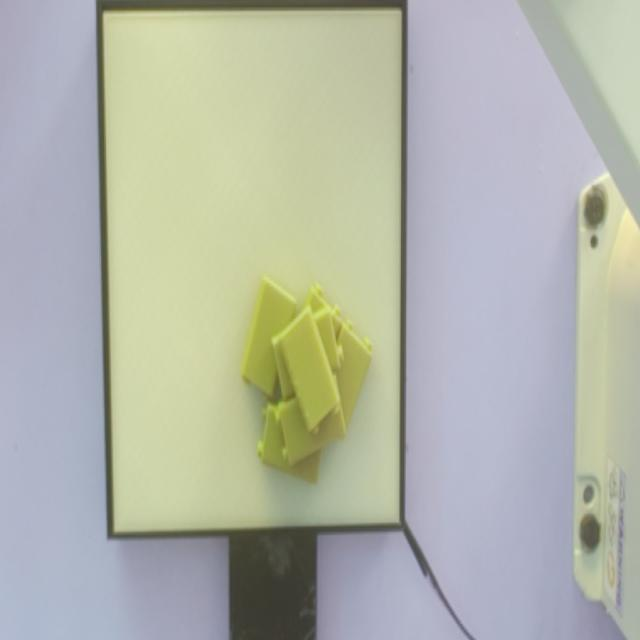bateria: (278, 305, 342, 435)
mesa: (96, 1, 407, 541)
